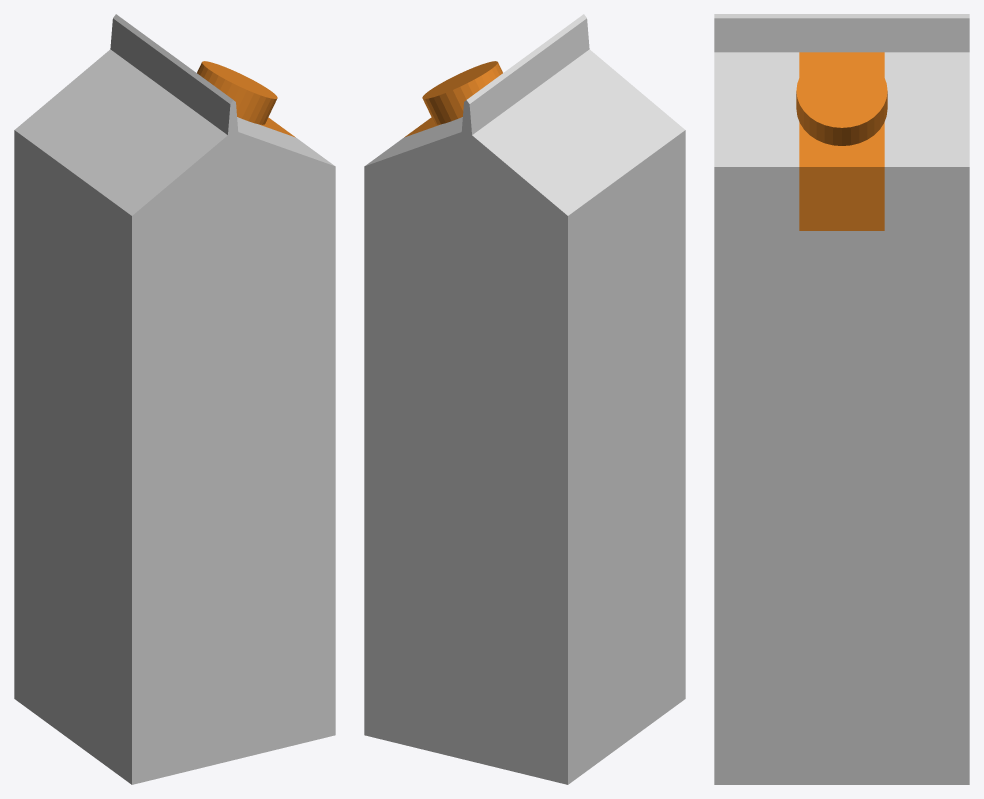
Rendered from OrangeJuceBox.dae.
3 renders of one model, left to right at view 1: azimuth 30°, elevation 25°; view 2: azimuth 150°, elevation 25°; view 3: azimuth 270°, elevation 25°, orthographic. The views are drawn at different scales.
Visible parts, largest first — view 1: Cube; view 2: Cube; view 3: Cube.
Part boxes in pixels (x1,y1,x2,y2): Cube: (14,14,335,784); Cube: (364,14,685,784); Cube: (714,14,969,784).
Size of the model in its own units: 0.07 by 0.07 by 0.217.
